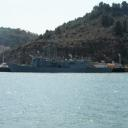Fragata: (5, 38, 115, 75)
